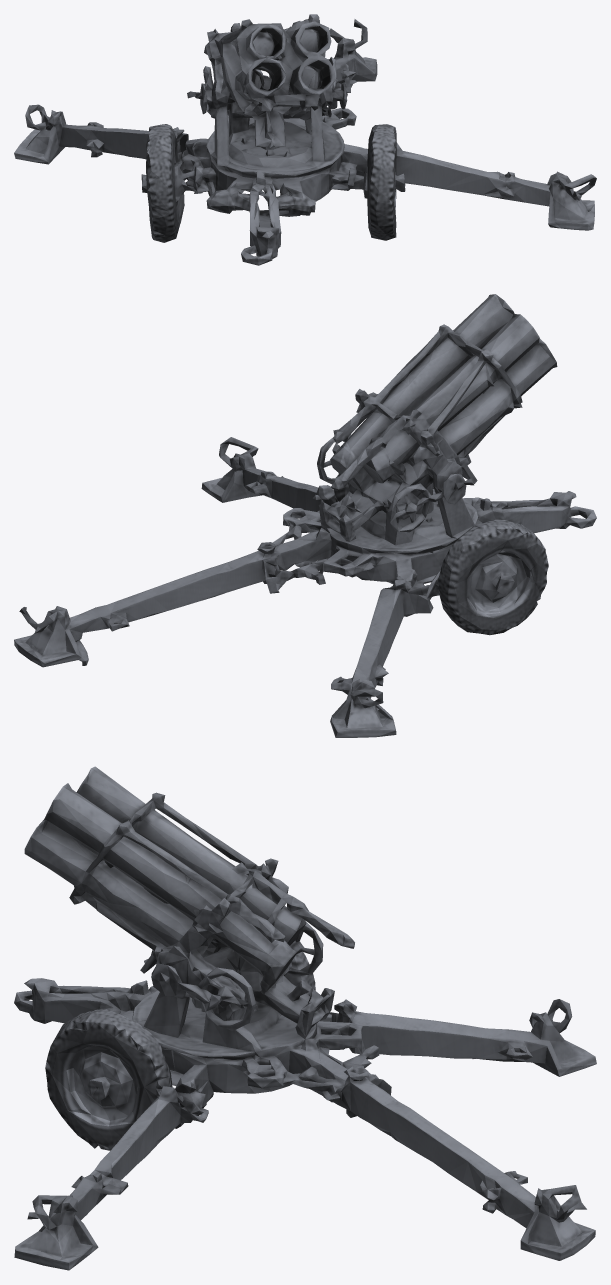
Rendered from nebelwerfer_hull.obj.
3 views of the same model, one above another, from view 1: azimuth 30°, elevation 25°; view 2: azimuth 150°, elevation 25°; view 3: azimuth 270°, elevation 25° (orthographic). The views are drawn at different scales.
Parts seen in each view (by area): view 1: nebelwerfer_hull; view 2: nebelwerfer_hull; view 3: nebelwerfer_hull.
Boxes of the visible parts, x1,y1,x2,y2 form: nebelwerfer_hull: (14, 14, 596, 265); nebelwerfer_hull: (14, 294, 596, 737); nebelwerfer_hull: (14, 766, 596, 1270).
Bounding box in the file's own units: 3.33 × 2.14 × 3.5.
Materials: 1 (1 with a texture image).
